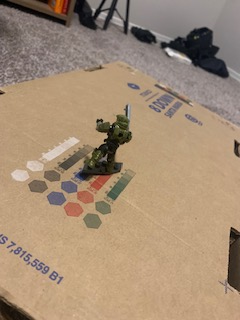soldier: (86, 102, 135, 178)
